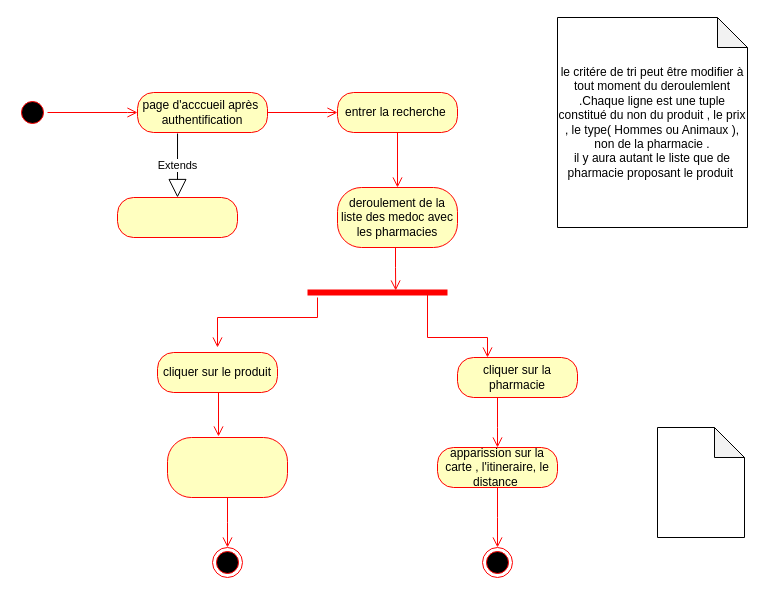
The diagram is 765 pixels wide and 595 high, and some of its shapes have lost their labels. The box of each missing label's shape, as (x1, y1, x2, y2) in pixels:
affichages d'images et informations sur le produit: (166, 436, 288, 498)
choisir le critere de trie: (116, 196, 238, 238)
il y a possibilité de modifier le lieu de depart: (656, 426, 744, 538)
